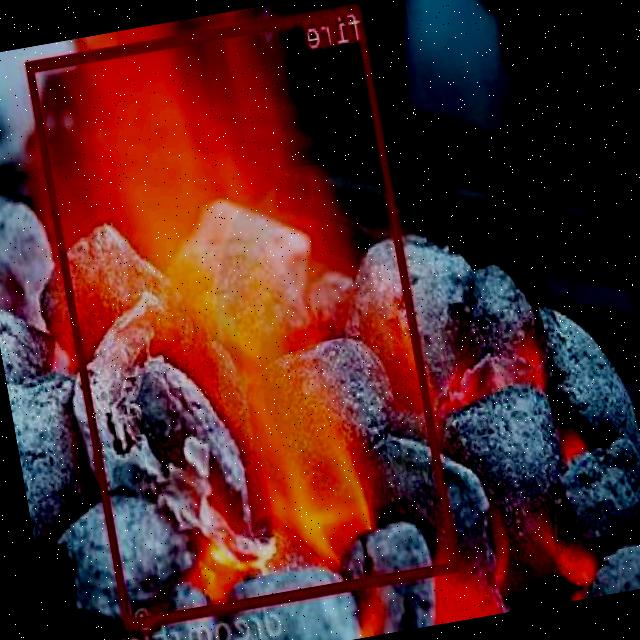fire: (26, 1, 460, 628)
